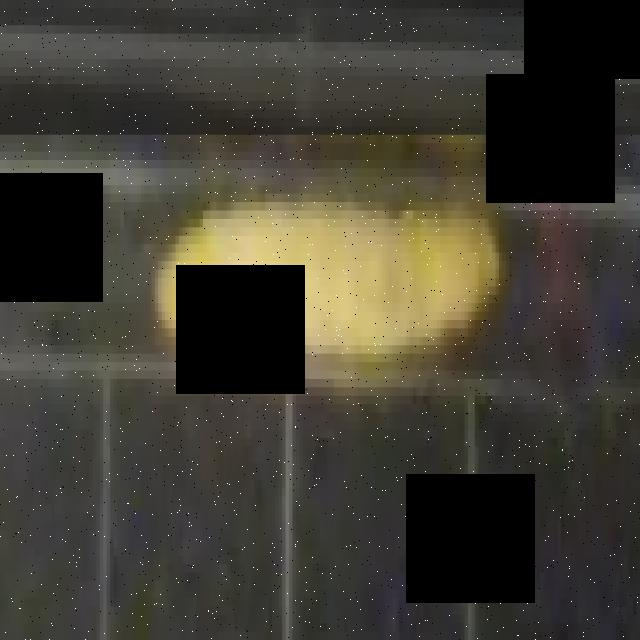larva: (150, 169, 503, 370)
